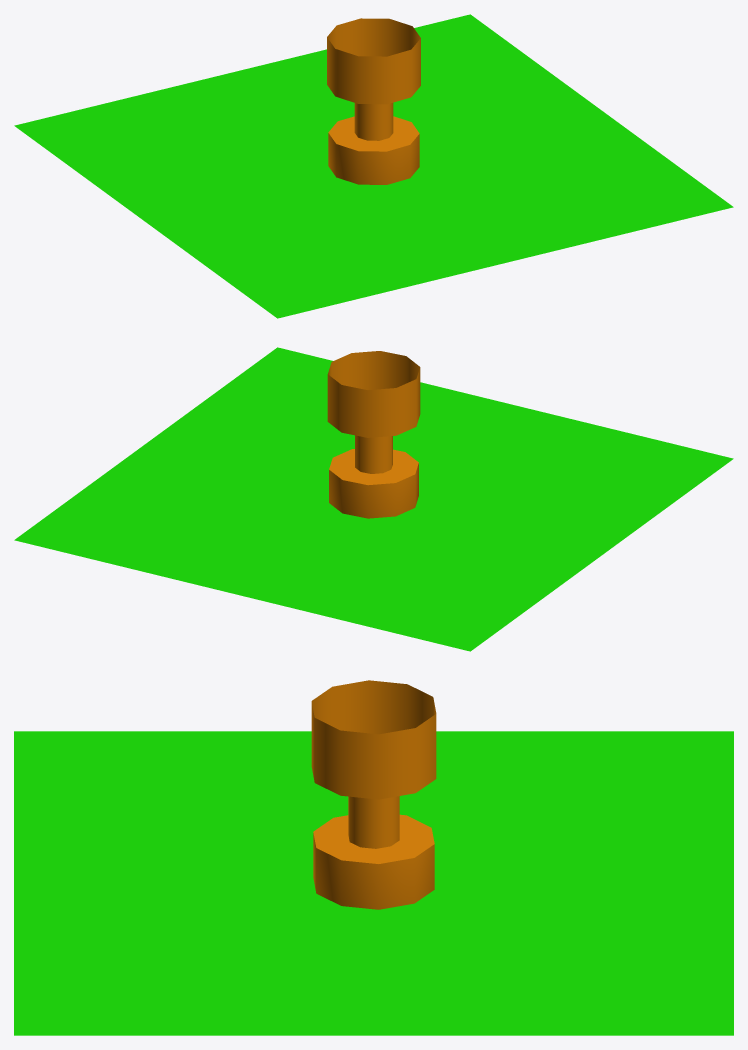
Rendered from Cellingfan.fbx.
3 renders of one model, top to bottom at view 1: azimuth 30°, elevation 25°; view 2: azimuth 150°, elevation 25°; view 3: azimuth 270°, elevation 25°, orthographic. The views are drawn at different scales.
Parts seen in each view (by area): view 1: Fans, Cellingfan; view 2: Fans, Cellingfan; view 3: Fans, Cellingfan.
Part boxes in pixels (box(x1,y1,x2,y2)): Fans: box(14, 14, 733, 318); Cellingfan: box(327, 18, 420, 184); Fans: box(14, 347, 733, 651); Cellingfan: box(327, 351, 420, 518); Fans: box(14, 731, 733, 1035); Cellingfan: box(311, 680, 436, 909).
Size of the model in its own units: 200 by 75 by 200.
